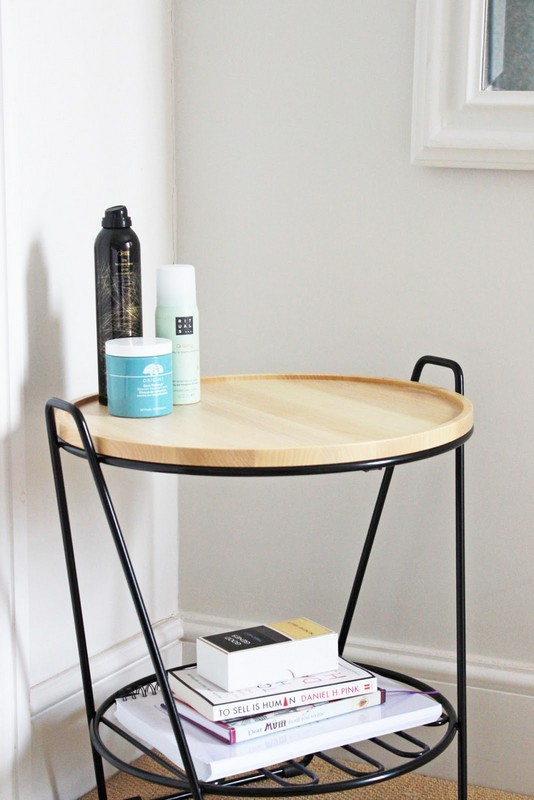table: (42, 350, 477, 797)
